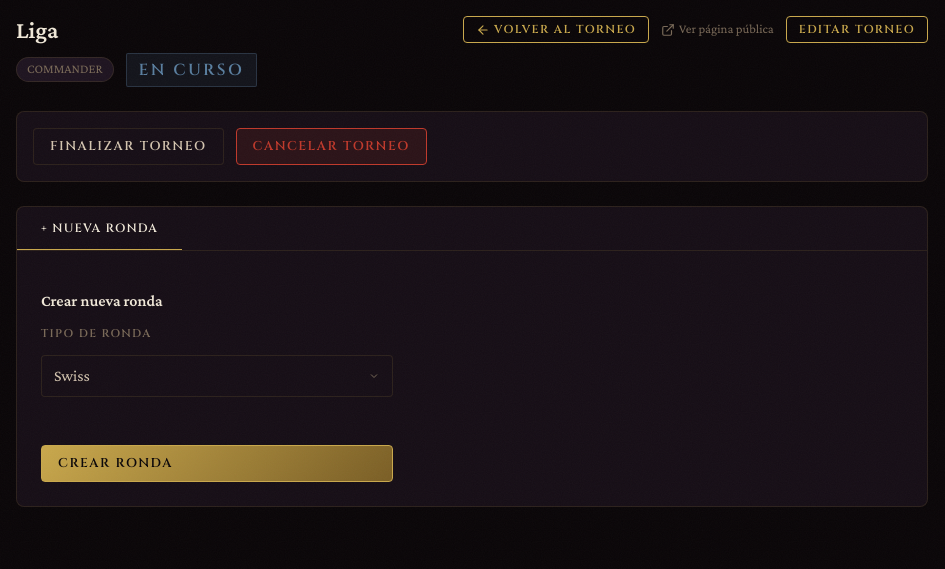
Scenario: GestionTorneo › muestra error cuando falla crearRonda
Click the button "Crear ronda" at (115, 463), box [41,445,393,482]
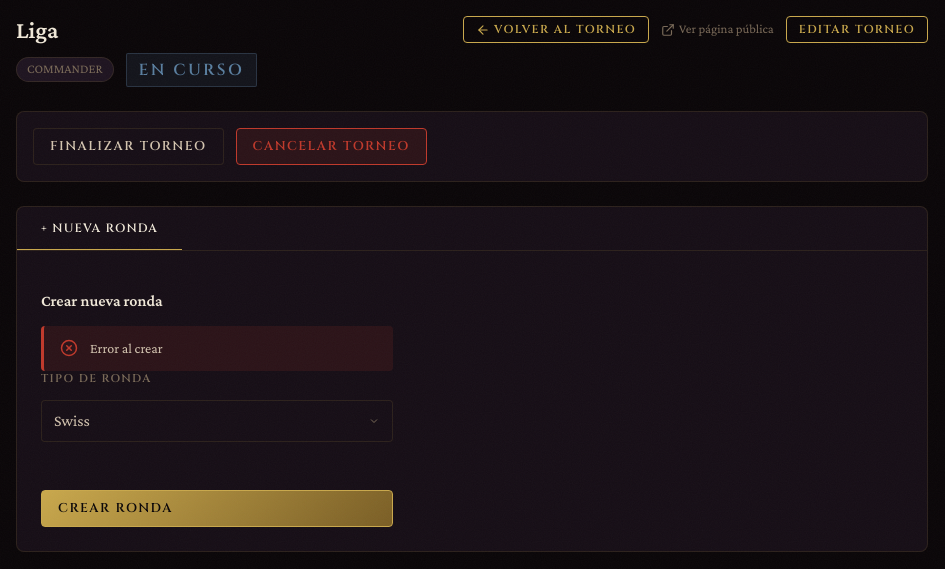
Now the text "Error al crear" is shown, box [90,338,163,359]
